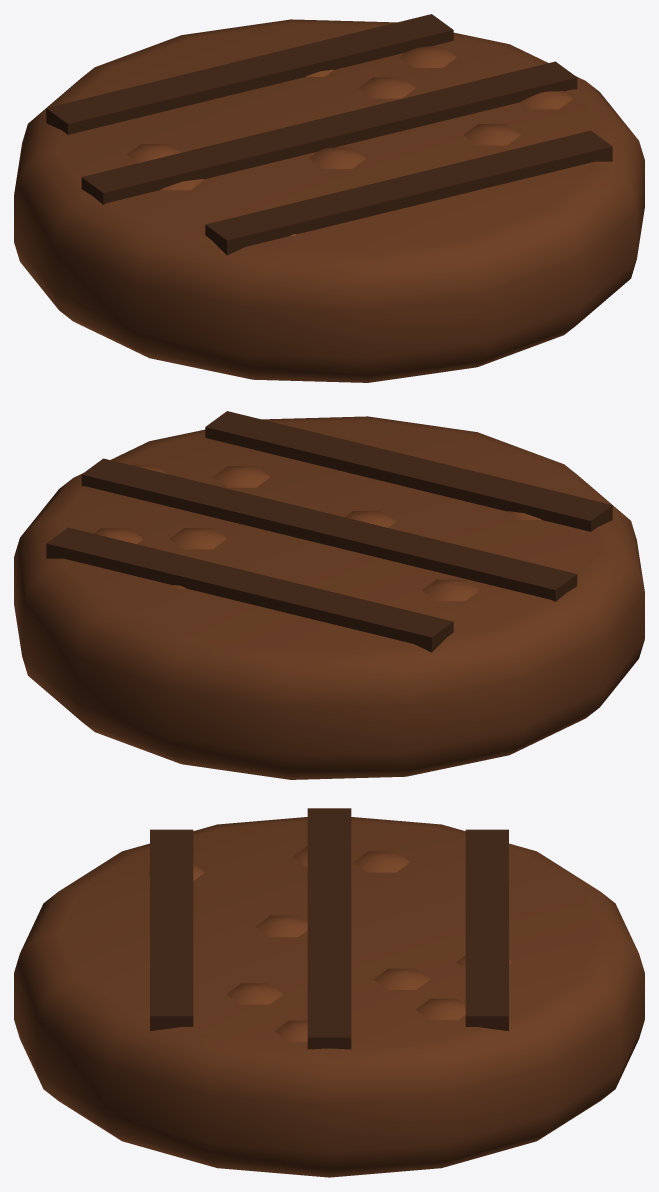
Rendered from meat_cooked.glb.
3 renders of one model, top to bottom at view 1: azimuth 30°, elevation 25°; view 2: azimuth 150°, elevation 25°; view 3: azimuth 270°, elevation 25°, orthographic.
Parts seen in each view (by area): view 1: meat_cooked; view 2: meat_cooked; view 3: meat_cooked.
Part boxes in pixels (x1=…): meat_cooked: x1=14, y1=14, x2=644, y2=382; meat_cooked: x1=14, y1=411, x2=644, y2=779; meat_cooked: x1=14, y1=808, x2=644, y2=1177.
Size of the model in its own units: 0.32 by 0.076 by 0.32.
